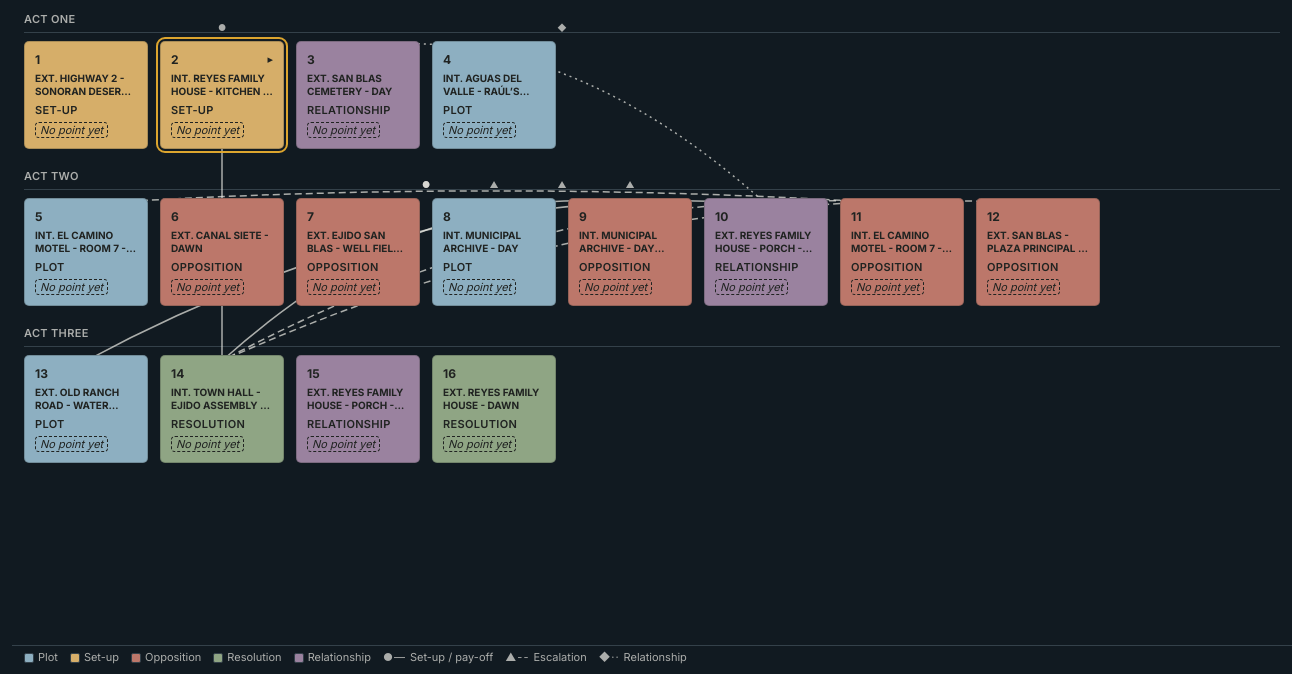
direct in-card scene point editing (no popover) › Enter saves in place, shows the preview on the card, and syncs the inspector
Click the 2nd button "No point yet" at (208, 130), box [171, 122, 244, 138]
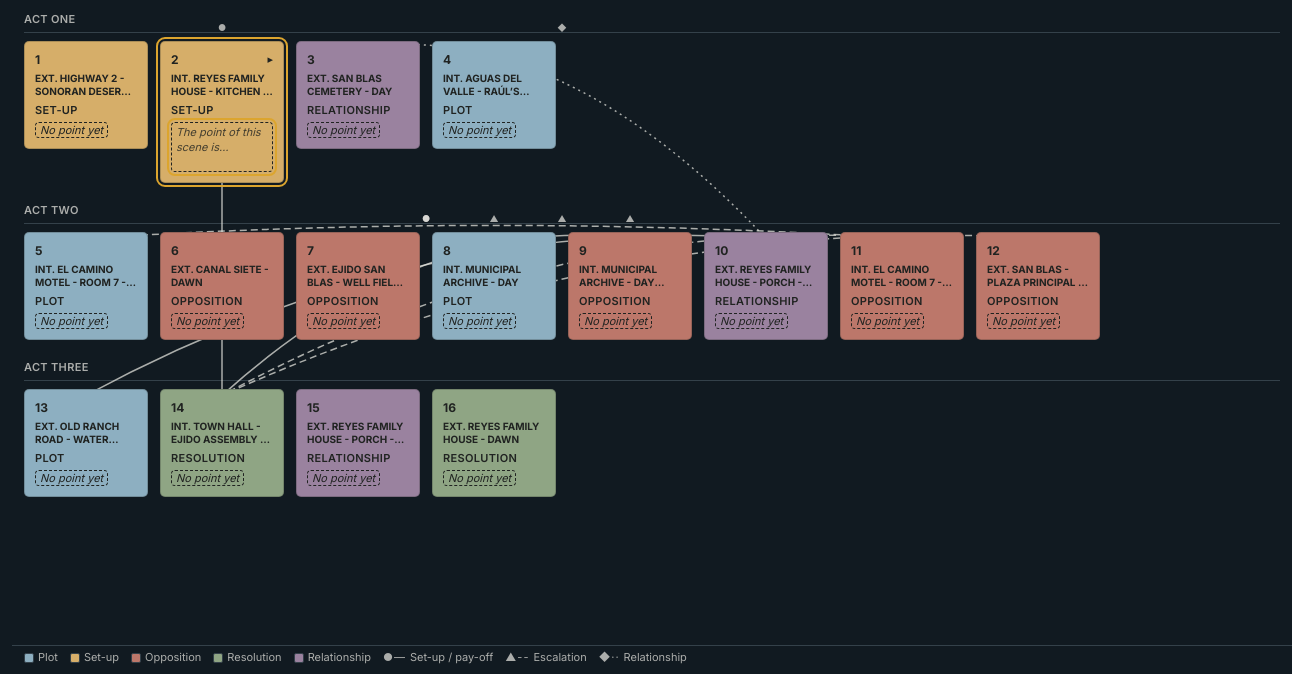
Type keys "The wake reopens the ledger.{Enter}"
(page scrolled)
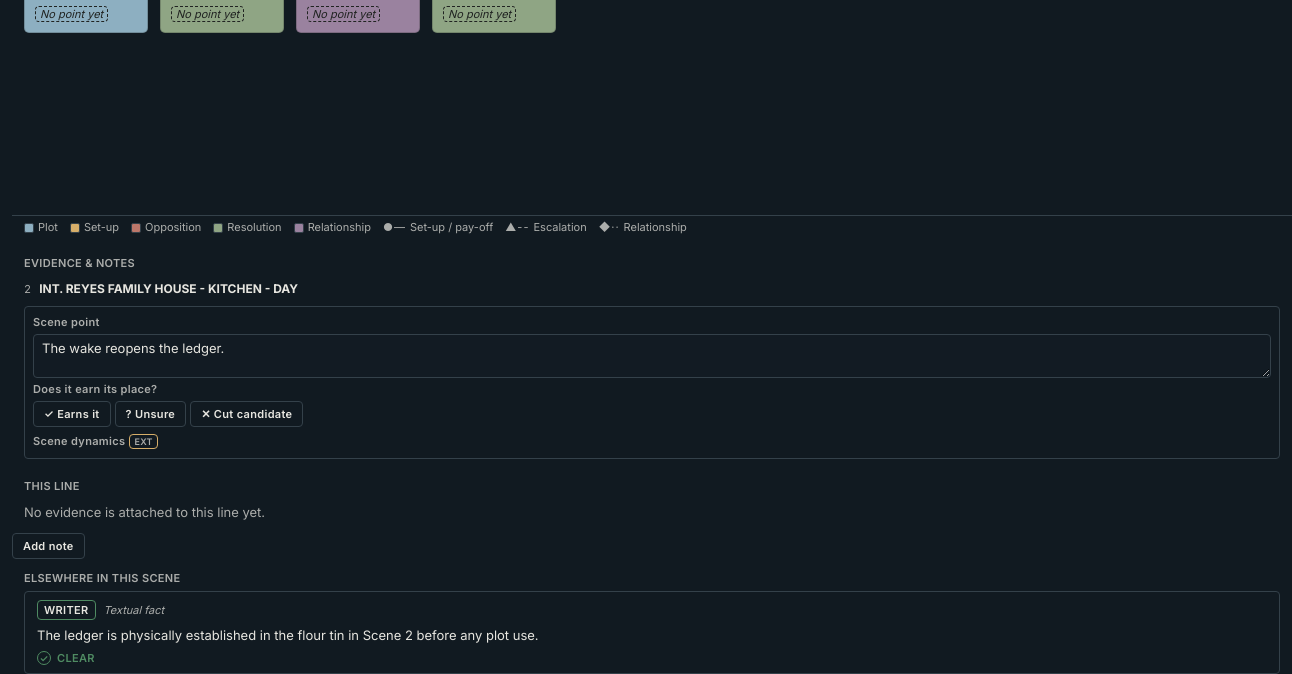
Expected: the field with placeholder "The point of this scene is…" is not shown
Now the text box labelled "Scene point" holds "The wake reopens the ledger.", box [33, 334, 1271, 378]
